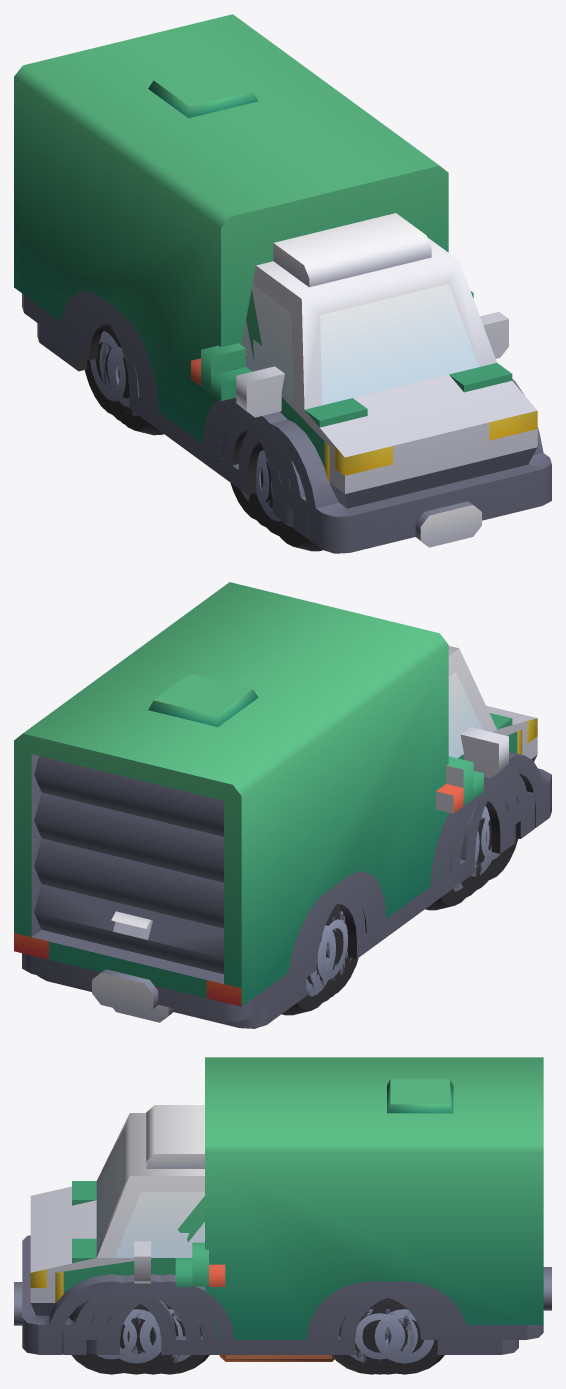
Rendered from props.glb.
3 views of the same model, one above another, from view 1: azimuth 30°, elevation 25°; view 2: azimuth 150°, elevation 25°; view 3: azimuth 270°, elevation 25° (orthographic). The views are drawn at different scales.
Parts seen in each view (by area): view 1: body (×4), wheel-back-right (×2), wheel-front-right (×2); view 2: body (×4), door, wheel-back-right (×4), wheel-front-right (×3); view 3: body (×4), wheel-back-left (×4), wheel-front-left (×4), box.
Boxes of the visible parts, x1,y1,x2,y2 form: body (×4): [14, 14, 551, 553]; wheel-back-right (×2): [85, 324, 163, 435]; wheel-front-right (×2): [230, 447, 292, 535]; body (×4): [14, 582, 551, 1028]; door: [34, 756, 223, 974]; wheel-back-right (×4): [282, 904, 358, 1015]; wheel-front-right (×3): [425, 806, 518, 910]; body (×4): [14, 1057, 551, 1354]; wheel-back-left (×4): [331, 1298, 444, 1374]; wheel-front-left (×4): [68, 1303, 209, 1374]; box: [219, 1355, 334, 1361].
Size of the model in its own units: 1.5 by 1.65 by 3.25.
Materials: 1 (1 with a texture image).
